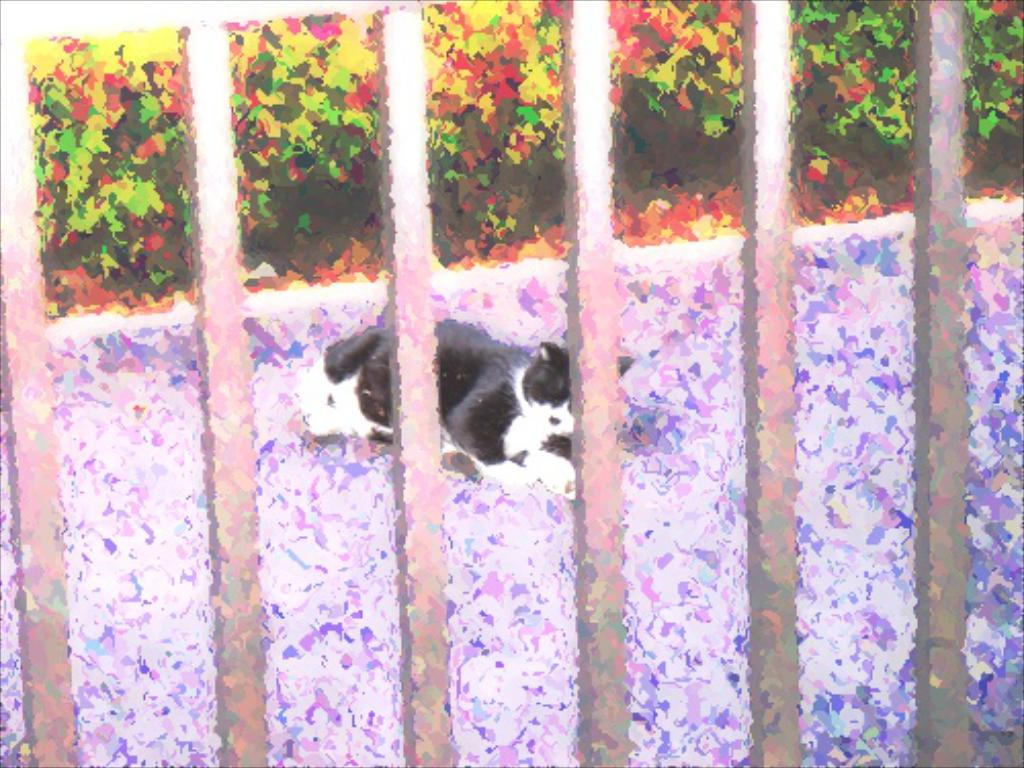Animal: (294, 308, 636, 507)
